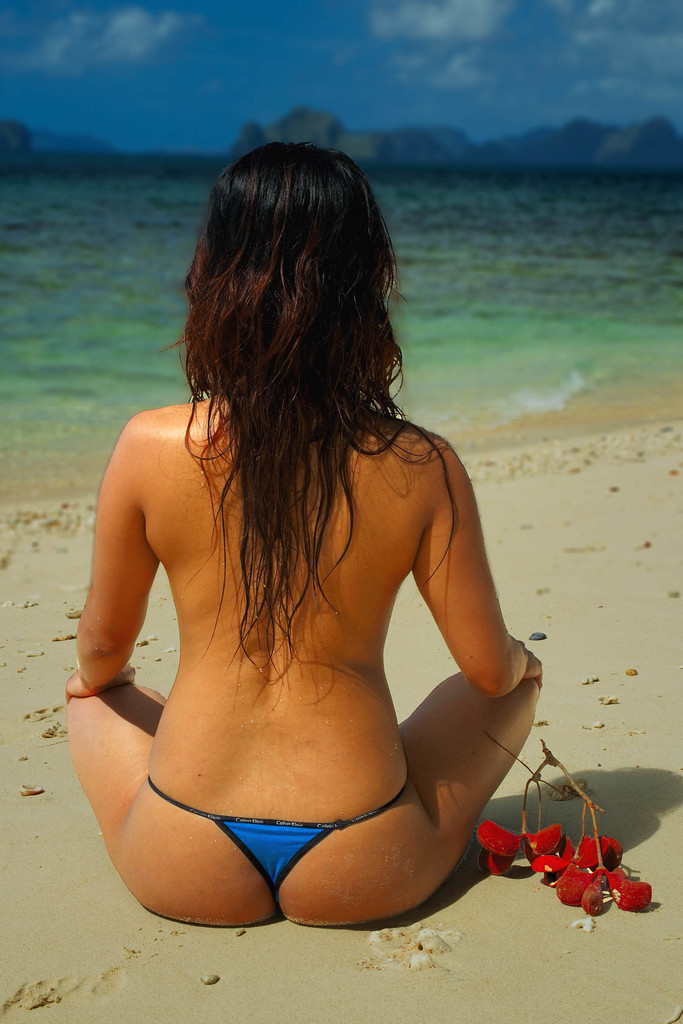Human_hand: (67, 662, 135, 702), (516, 635, 542, 685)
